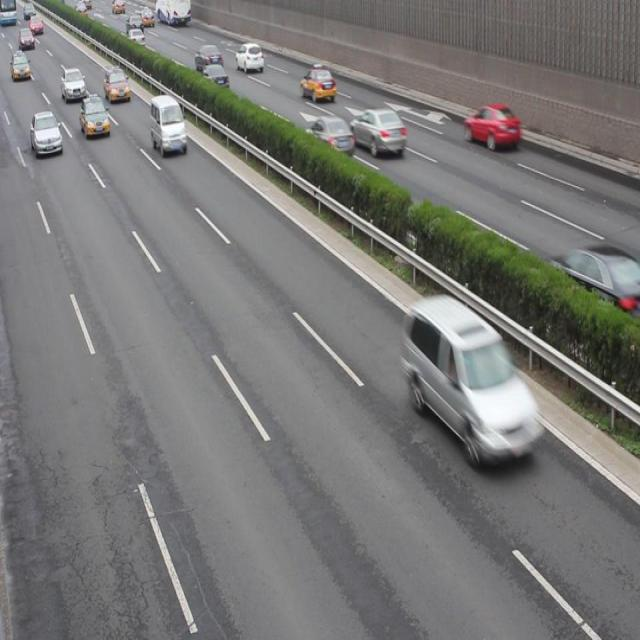car: (548, 246, 640, 322), (464, 102, 520, 152), (349, 110, 406, 156), (307, 117, 353, 154), (31, 110, 62, 156), (300, 65, 336, 100), (80, 96, 110, 137), (104, 70, 129, 102), (61, 67, 86, 99), (235, 44, 262, 72), (195, 46, 222, 72), (200, 66, 230, 89), (12, 52, 30, 80), (126, 28, 145, 48)
truck: (402, 296, 538, 462), (150, 96, 186, 154)
